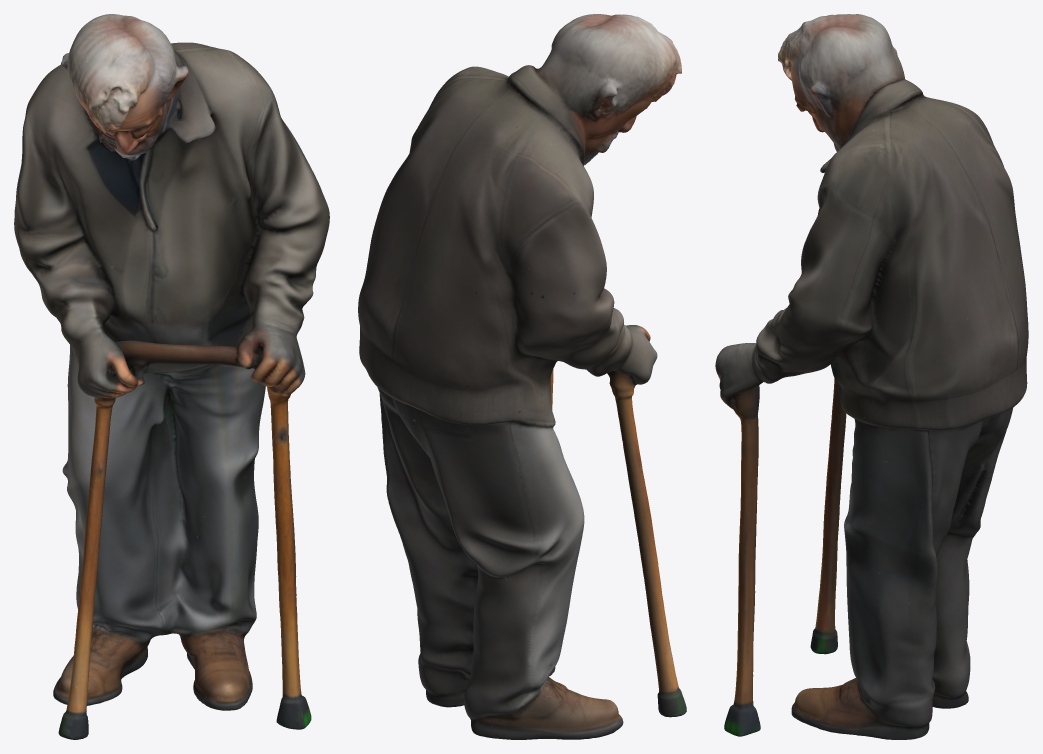
File: man with walker.fbx
3 views of the same model, side by side, from view 1: azimuth 30°, elevation 25°; view 2: azimuth 150°, elevation 25°; view 3: azimuth 270°, elevation 25° (orthographic). The views are drawn at different scales.
Parts seen in each view (by area): view 1: Mesh_0; view 2: Mesh_0; view 3: Mesh_0.
Boxes of the visible parts, left/top/right/bottom form: Mesh_0: left=14, top=14, right=329, bottom=739; Mesh_0: left=358, top=14, right=686, bottom=739; Mesh_0: left=715, top=14, right=1028, bottom=739.
Bounding box in the file's own units: 80.64 × 200 × 86.77.
1 material, 1 textured.
